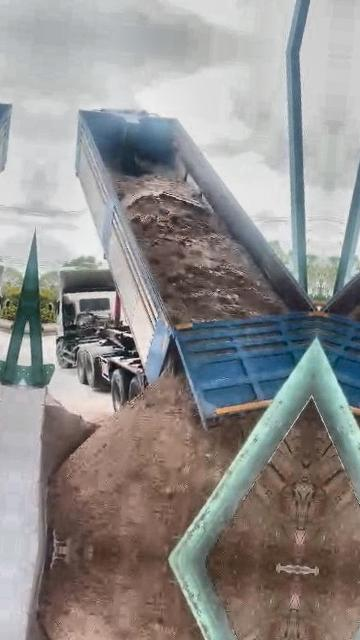sand: (50, 377, 259, 558), (113, 174, 287, 323), (210, 405, 310, 567), (41, 396, 108, 487), (161, 342, 184, 375)
